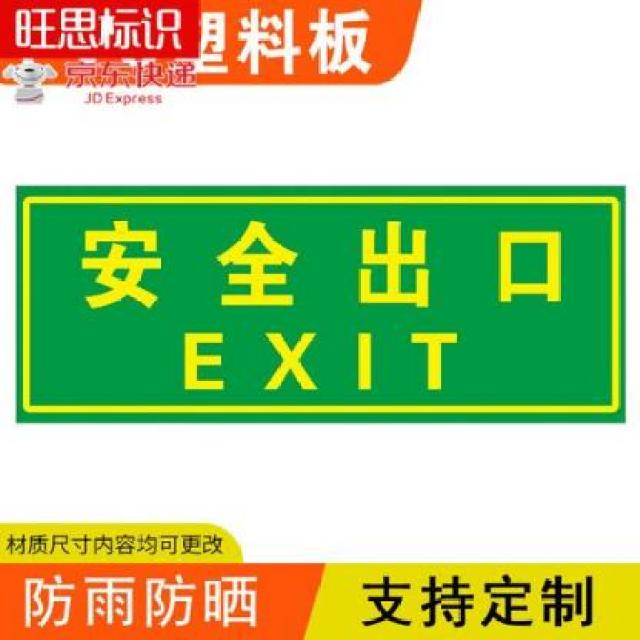exit_sign: (19, 185, 633, 442)
